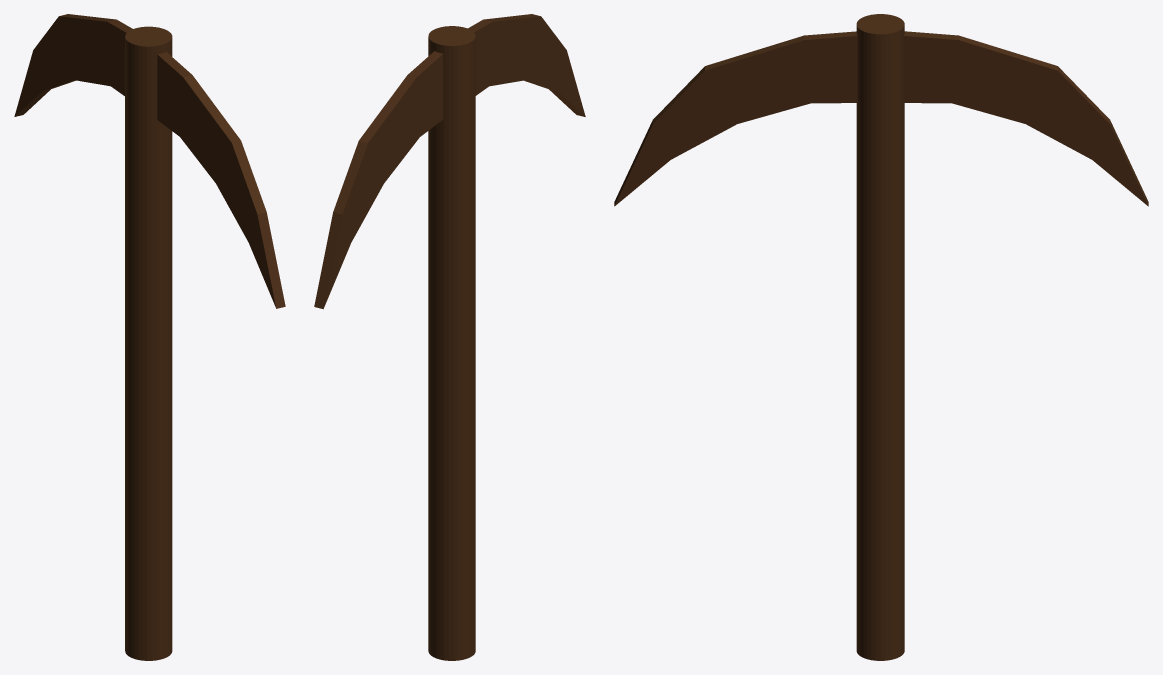
Rendered from Wood Pickaxe.fbx.
The picture shows the model from 3 angles, left to right: view 1: azimuth 30°, elevation 25°; view 2: azimuth 150°, elevation 25°; view 3: azimuth 270°, elevation 25°; orthographic projection.
Parts seen in each view (by area): view 1: Cylinder.001; view 2: Cylinder.001; view 3: Cylinder.001.
Part boxes in pixels (bbox=[...]): Cylinder.001: bbox=[14, 14, 285, 660]; Cylinder.001: bbox=[314, 14, 585, 660]; Cylinder.001: bbox=[614, 14, 1148, 660].
Bounding box in the file's own units: 3.49 × 50 × 38.66.
